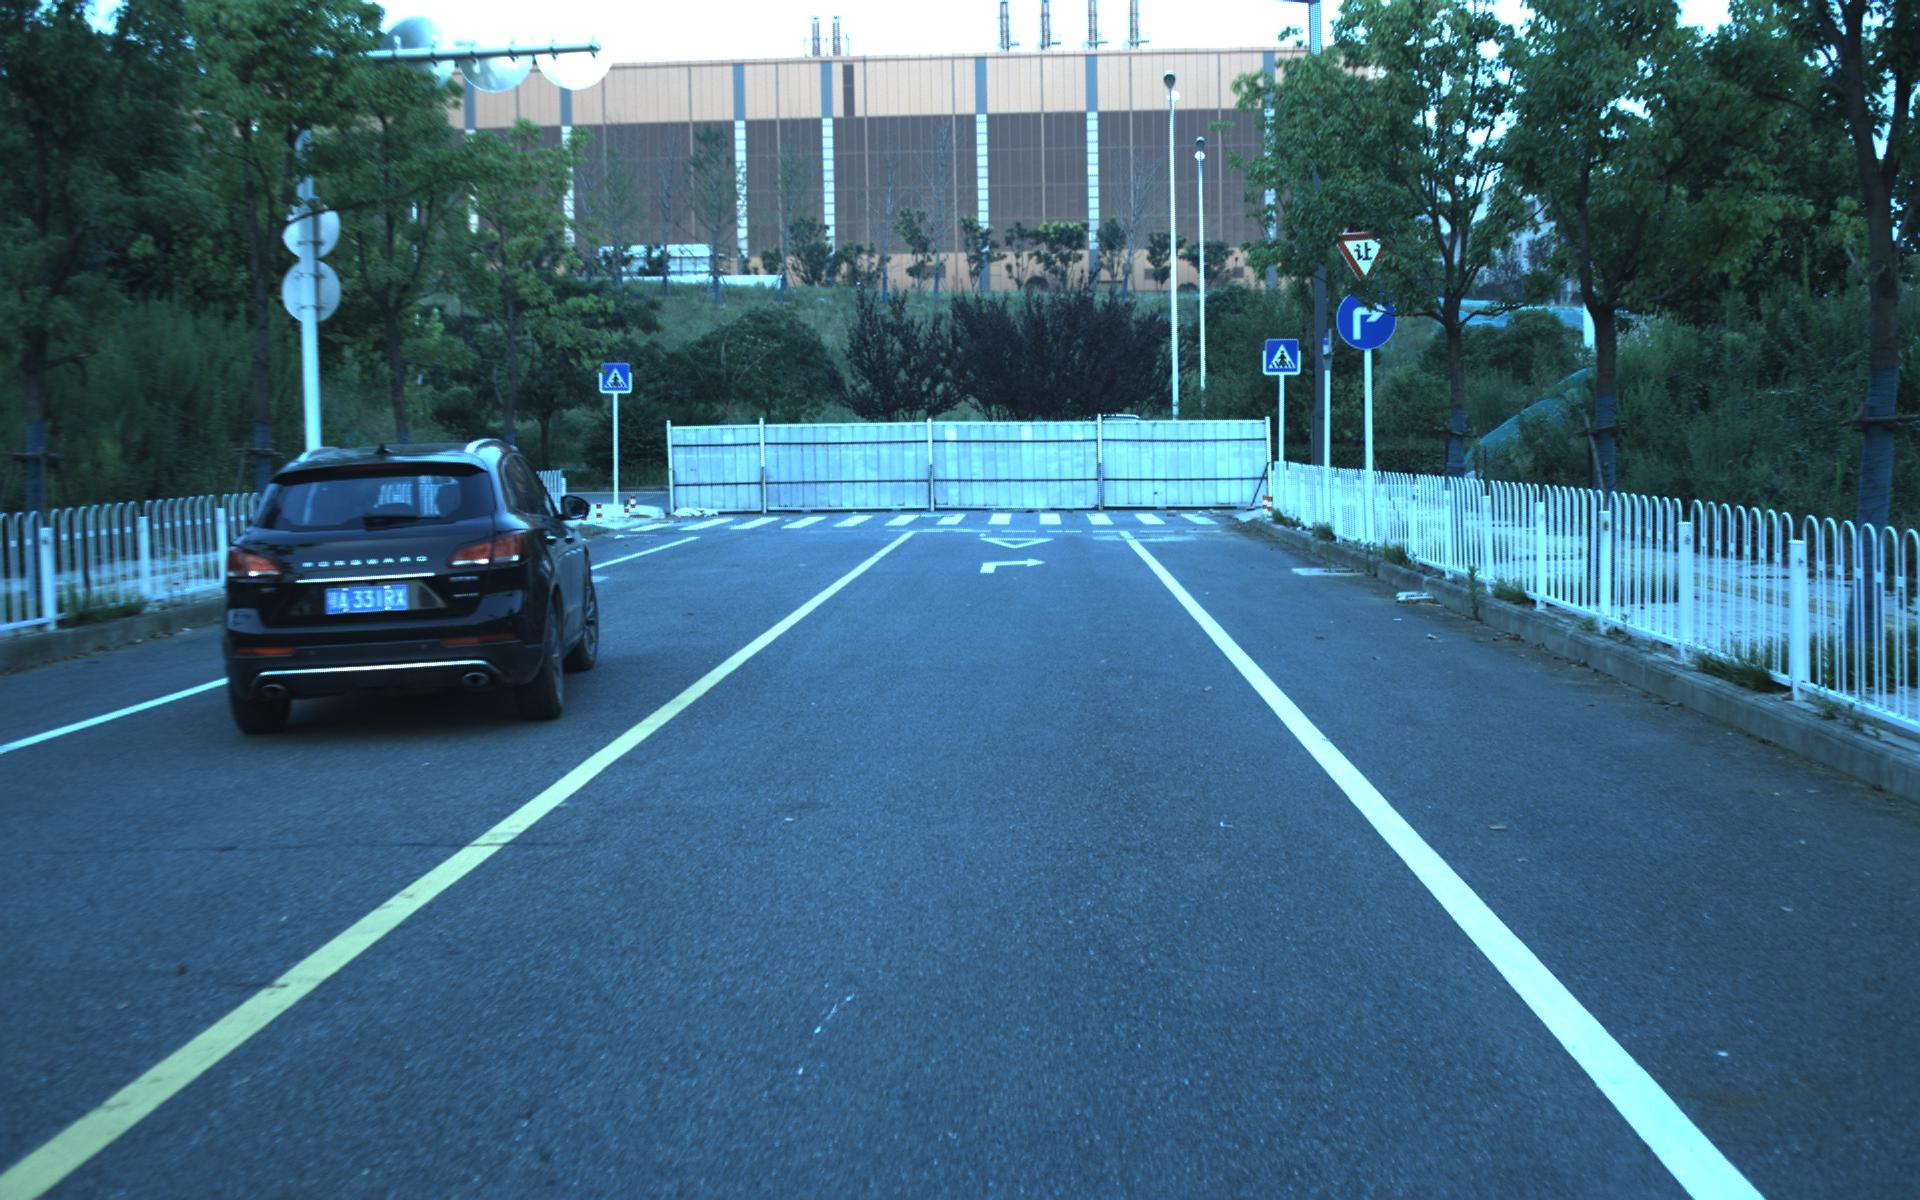Car: (206, 431, 610, 742)
